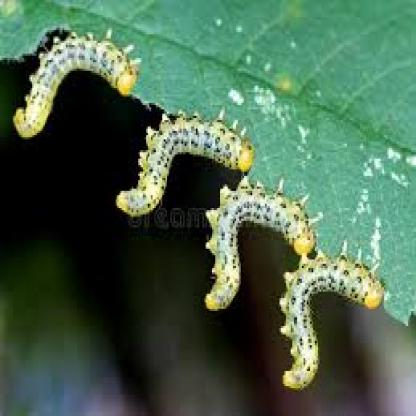sawfly: (198, 170, 320, 314), (276, 237, 384, 396), (110, 110, 258, 221), (12, 21, 140, 141)
